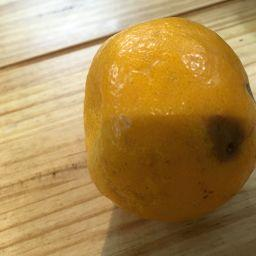Ripe: (87, 19, 253, 221)
